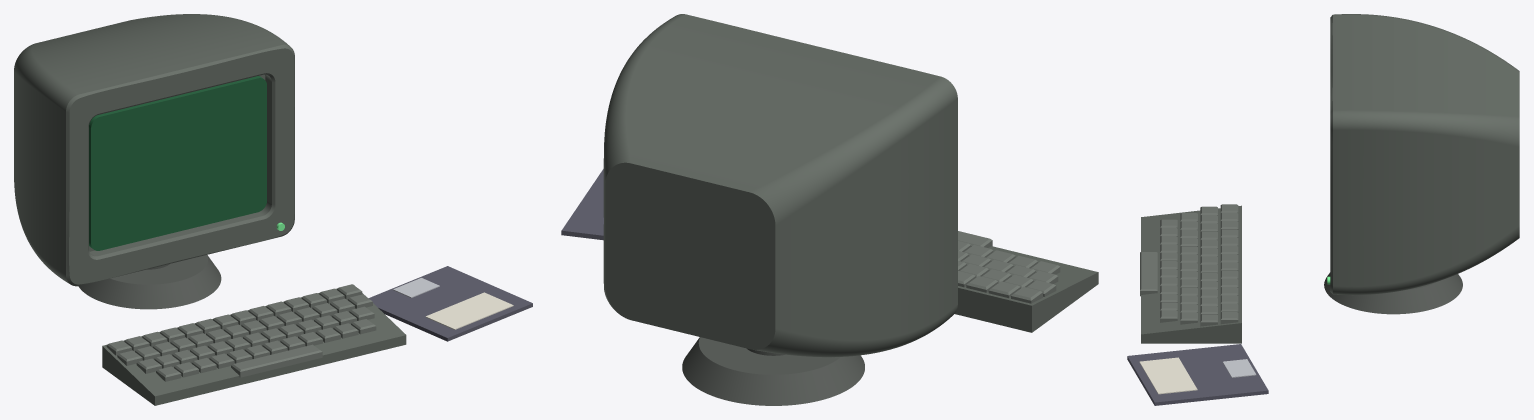
File: crt_terminal.glb
3 views of the same model, side by side, from view 1: azimuth 30°, elevation 25°; view 2: azimuth 150°, elevation 25°; view 3: azimuth 270°, elevation 25° (orthographic). The views are drawn at different scales.
Visible parts, largest first — view 1: =>[0:1:1:5], =>[0:1:1:7], =>[0:1:1:13], =>[0:1:1:23], =>[0:1:1:9], =>[0:1:1:25], =>[0:1:1:19], =>[0:1:1:27]; view 2: =>[0:1:1:5], =>[0:1:1:9], =>[0:1:1:13], =>[0:1:1:23]; view 3: =>[0:1:1:5], =>[0:1:1:13], =>[0:1:1:23], =>[0:1:1:9], =>[0:1:1:25], =>[0:1:1:19], =>[0:1:1:27].
Boxes of the visible parts, <box> form: =>[0:1:1:5]: <box>14,14,294,286</box>; =>[0:1:1:7]: <box>89,76,266,250</box>; =>[0:1:1:13]: <box>102,284,406,405</box>; =>[0:1:1:23]: <box>368,266,532,341</box>; =>[0:1:1:9]: <box>78,255,221,309</box>; =>[0:1:1:25]: <box>425,292,513,329</box>; =>[0:1:1:19]: <box>231,344,322,377</box>; =>[0:1:1:27]: <box>393,278,439,297</box>; =>[0:1:1:5]: <box>603,14,957,357</box>; =>[0:1:1:9]: <box>682,337,864,405</box>; =>[0:1:1:13]: <box>955,246,1098,332</box>; =>[0:1:1:23]: <box>561,169,603,240</box>; =>[0:1:1:5]: <box>1330,14,1519,295</box>; =>[0:1:1:13]: <box>1141,205,1241,343</box>; =>[0:1:1:23]: <box>1127,344,1268,405</box>; =>[0:1:1:9]: <box>1324,272,1462,314</box>; =>[0:1:1:25]: <box>1139,357,1197,394</box>; =>[0:1:1:19]: <box>1140,252,1157,296</box>; =>[0:1:1:27]: <box>1222,359,1256,377</box>.
Size of the model in its own units: 0.3369 by 0.1942 by 0.311.
